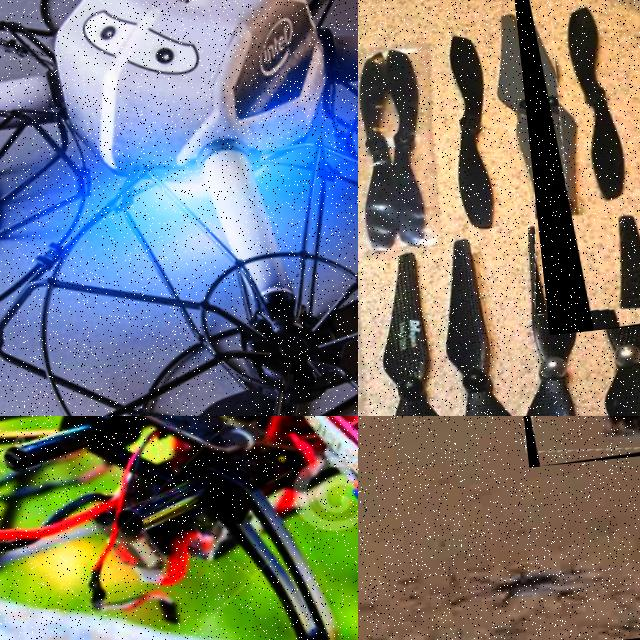drone: (0, 0, 358, 416), (0, 416, 358, 640), (497, 0, 640, 334), (516, 416, 640, 467)
